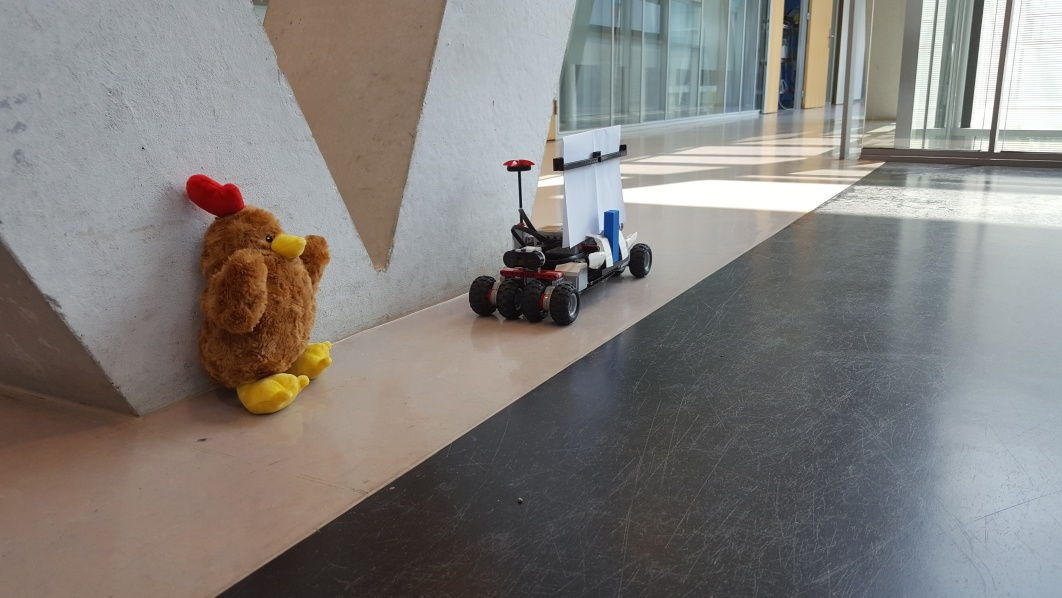beam: (600, 206, 623, 265)
chicken: (182, 172, 334, 417)
